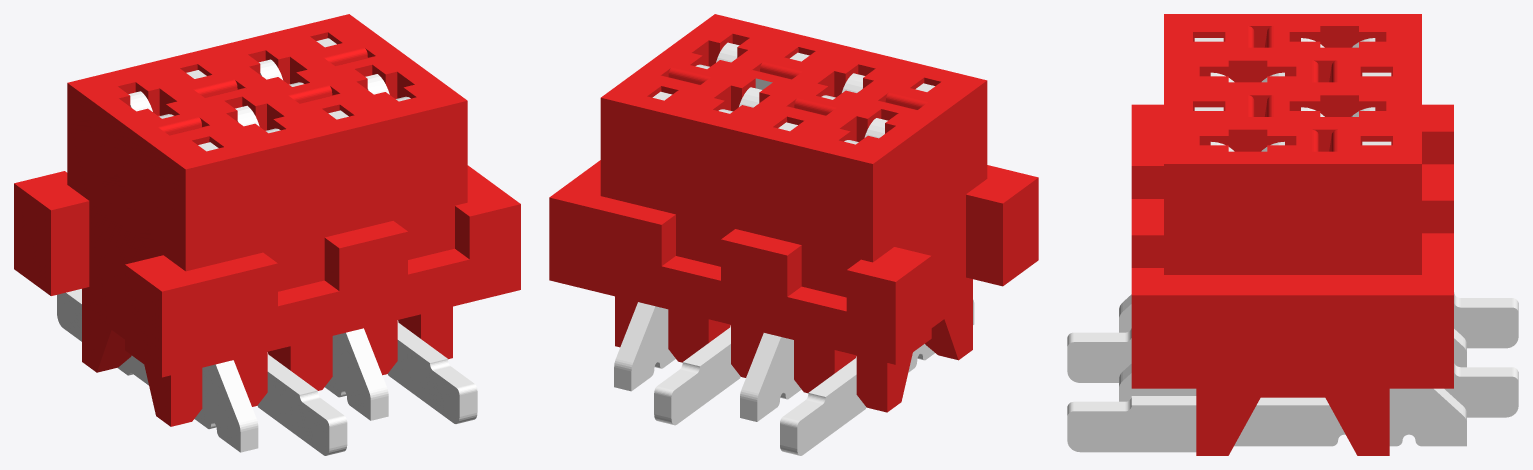
Rendered from mm-4p-smd_p1-27_l7_w5_h5-25.obj.
The picture shows the model from 3 angles, left to right: view 1: azimuth 30°, elevation 25°; view 2: azimuth 150°, elevation 25°; view 3: azimuth 270°, elevation 25°; orthographic projection. The views are drawn at different scales.
Parts seen in each view (by area): view 1: mm-4p-smd_p1-27_l7_w5_h5-25; view 2: mm-4p-smd_p1-27_l7_w5_h5-25; view 3: mm-4p-smd_p1-27_l7_w5_h5-25.
Part boxes in pixels (left/top/right/bottom): mm-4p-smd_p1-27_l7_w5_h5-25: left=14, top=14, right=520, bottom=455; mm-4p-smd_p1-27_l7_w5_h5-25: left=549, top=14, right=1038, bottom=455; mm-4p-smd_p1-27_l7_w5_h5-25: left=1067, top=14, right=1518, bottom=455.
Bounding box in the file's own units: 0.0141 × 0.0105 × 0.0141.
